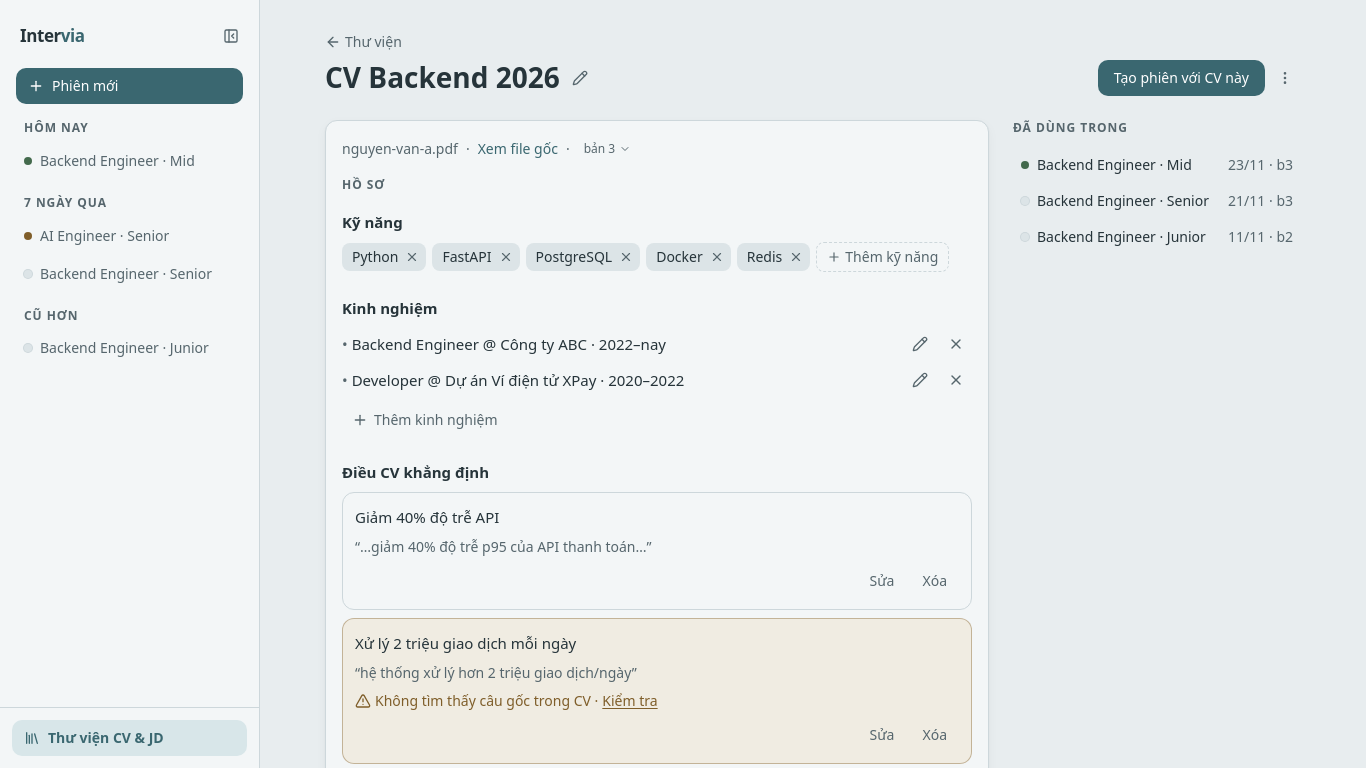
it: CvDetailPage › cancels re-analysis without running it
Click the button named "Tùy chọn cho CV CV Backend 2026": click(1285, 78) top-left (1269, 62), bottom-right (1301, 94)
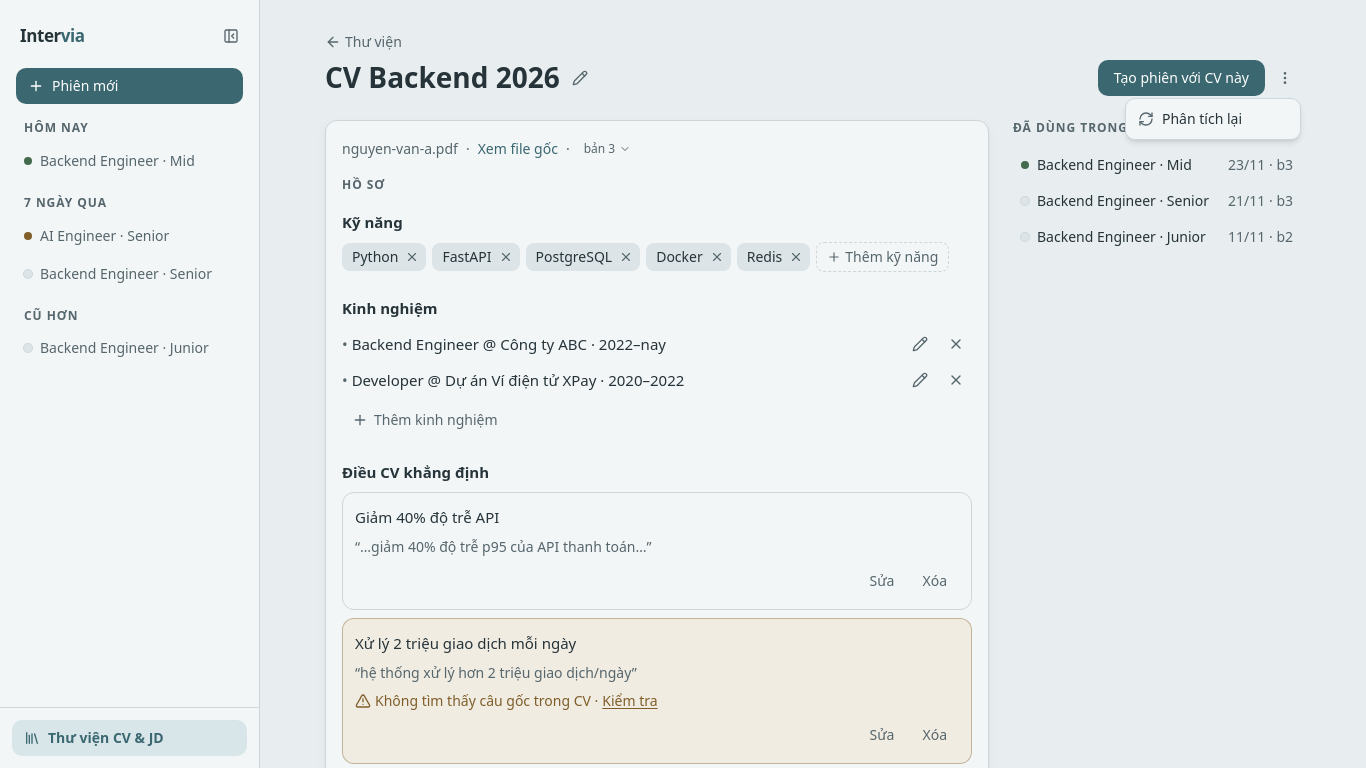
Click the menu item "Phân tích lại": click(1190, 118) top-left (1138, 109), bottom-right (1242, 128)
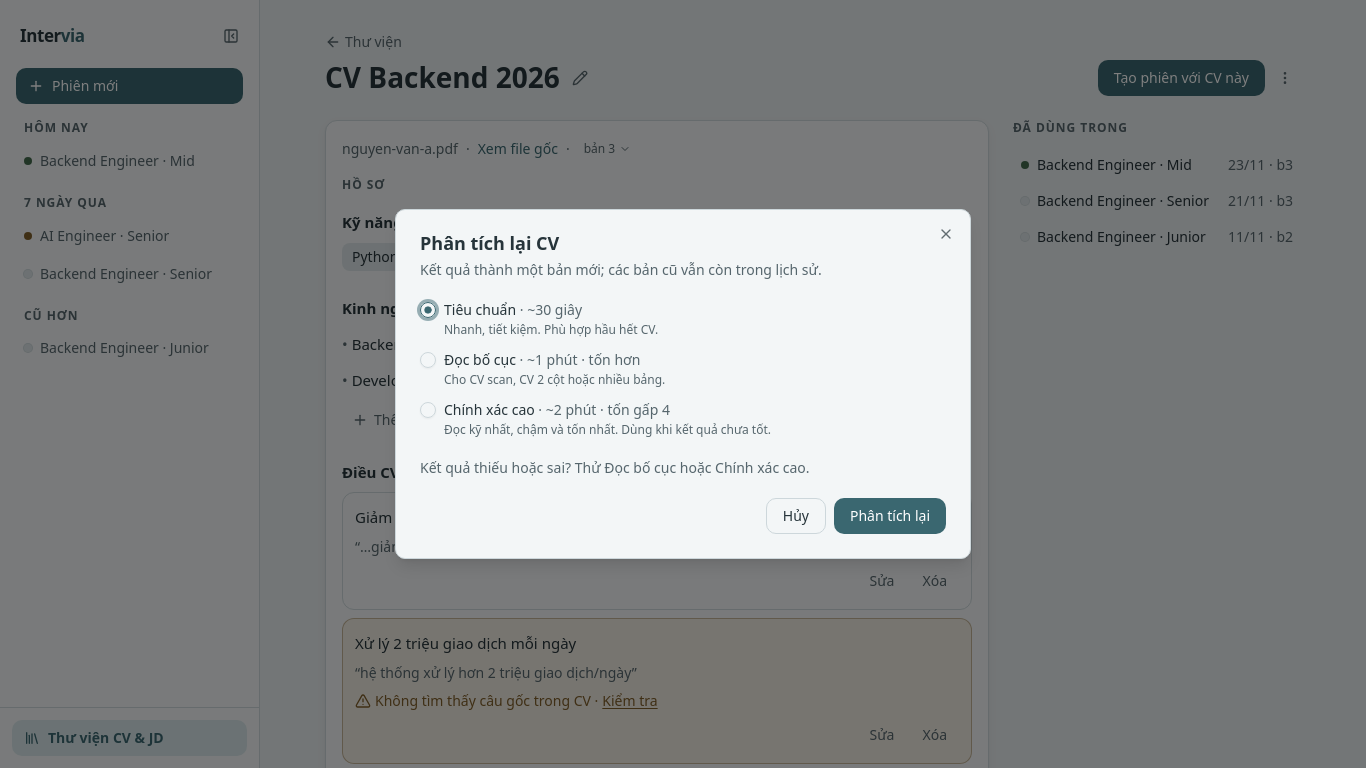
Click the button "Hủy": click(796, 516) top-left (766, 498), bottom-right (826, 534)
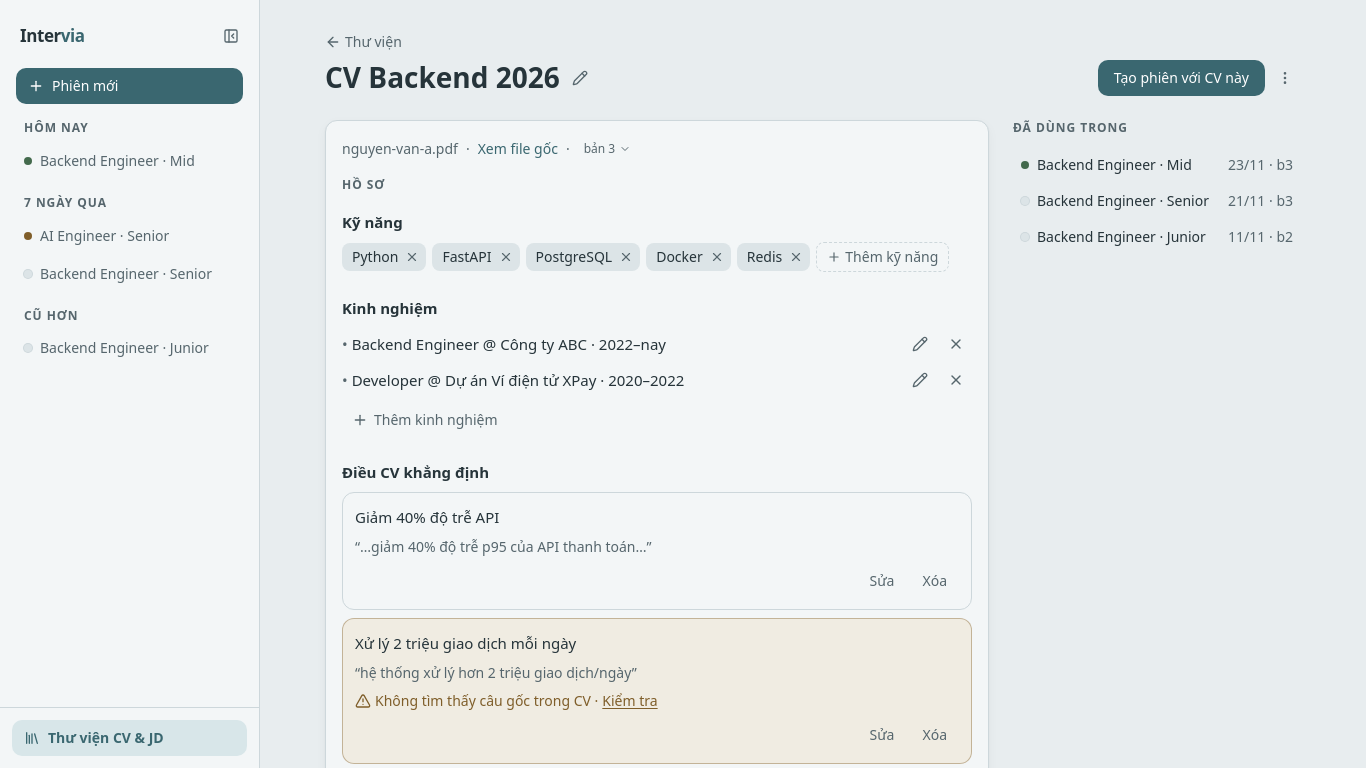
Now the dialog is gone
